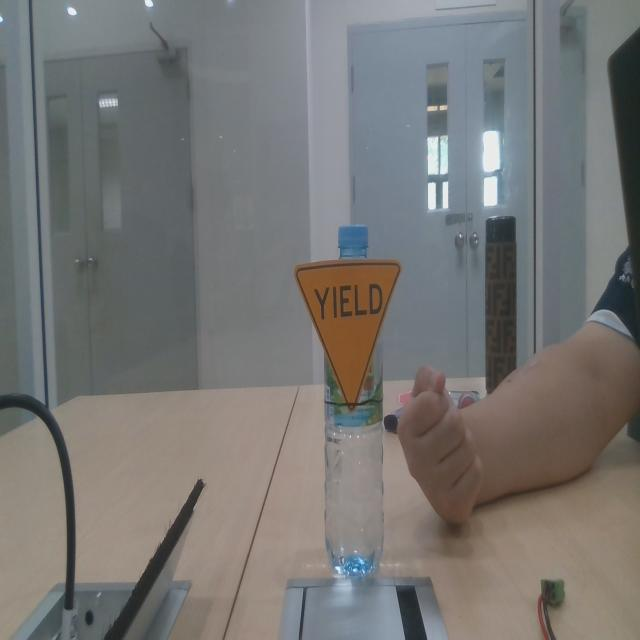Yield: (294, 260, 404, 414)
